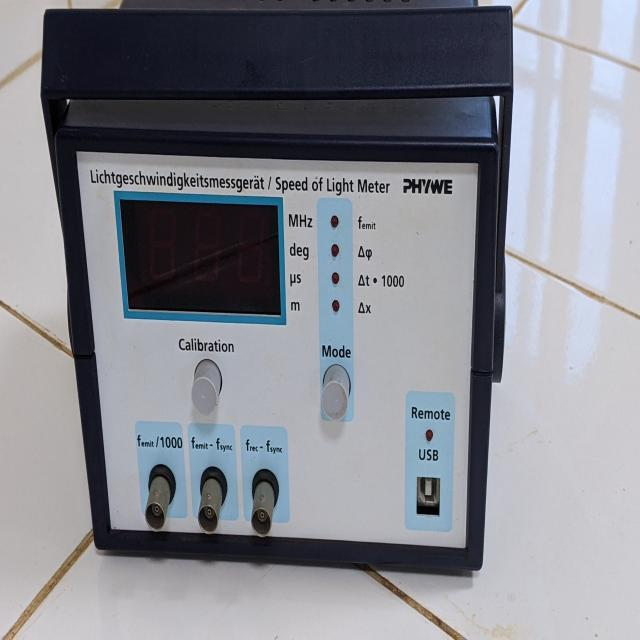Power Supply of Speed of Light Demo: (28, 3, 525, 591)
